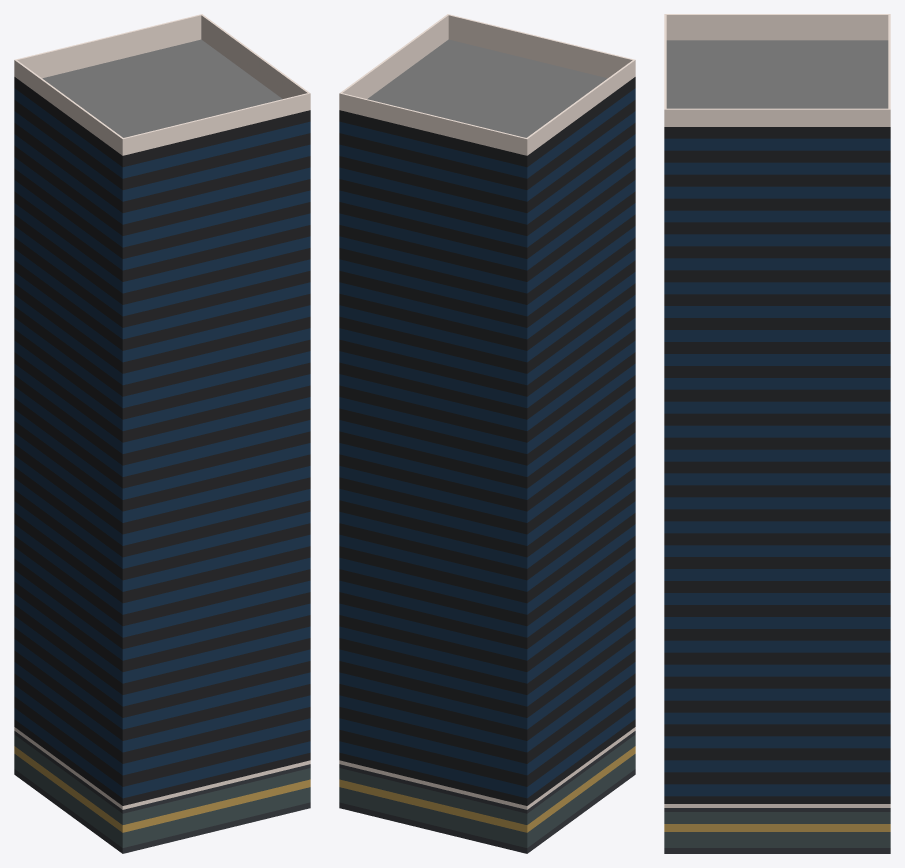
Rendered from far.fbx.
3 renders of one model, left to right at view 1: azimuth 30°, elevation 25°; view 2: azimuth 150°, elevation 25°; view 3: azimuth 270°, elevation 25°, orthographic. The views are drawn at different scales.
Visible parts, largest first — view 1: a2011/600/far; view 2: a2011/600/far; view 3: a2011/600/far.
Boxes of the visible parts, left/top/right/bottom form: a2011/600/far: left=14, top=14, right=310, bottom=853; a2011/600/far: left=339, top=14, right=635, bottom=853; a2011/600/far: left=664, top=14, right=890, bottom=853.
Size of the model in its own units: 30 by 109 by 30.
